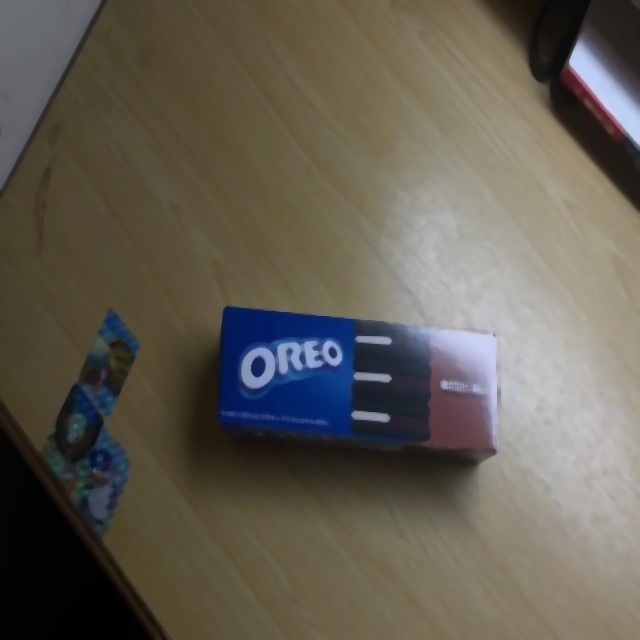Oreo: (215, 301, 502, 464)
